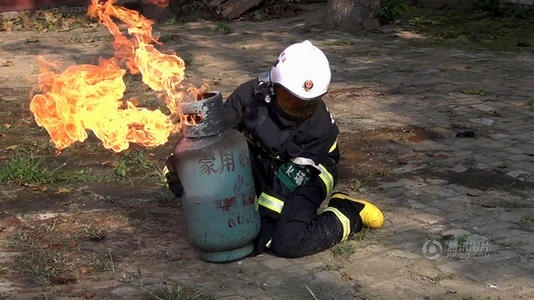fire: (29, 0, 201, 154)
